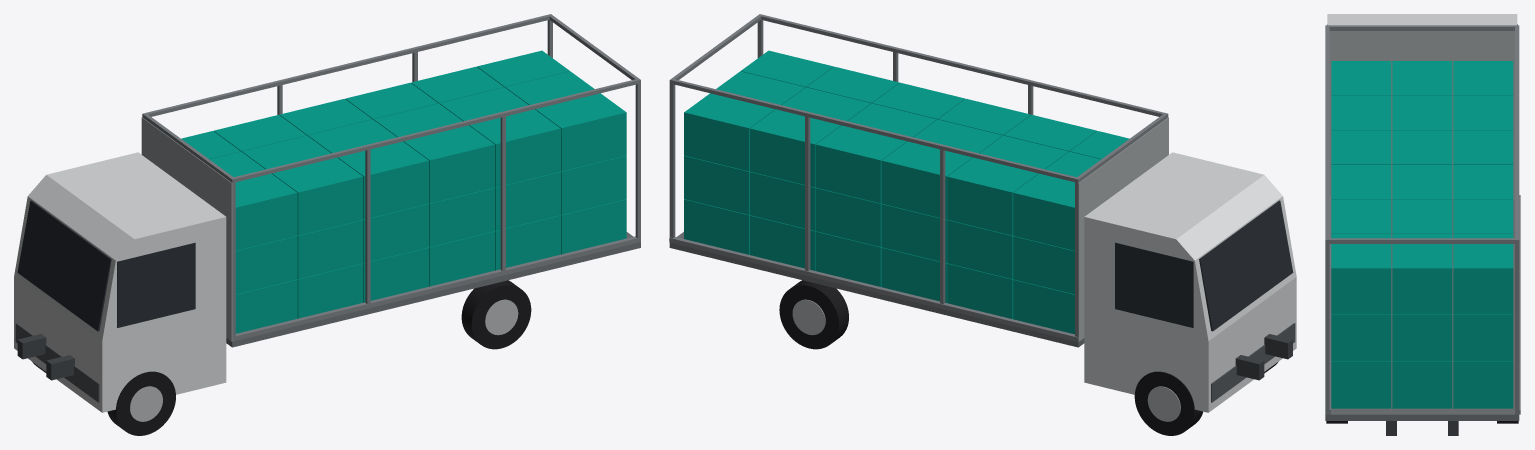
Rendered from caminhao-PN11.glb.
The picture shows the model from 3 angles, left to right: view 1: azimuth 30°, elevation 25°; view 2: azimuth 150°, elevation 25°; view 3: azimuth 270°, elevation 25°; orthographic projection. The views are drawn at different scales.
Visible parts, largest first — view 1: cabine, part21, janela, part46, part64, part82, frente, part55, part73, part37, part13, part43 (+38 smaller); view 2: cabine, part21, janela, part48, part66, part84, frente, part57, part75, part39, part15, part45 (+38 smaller); view 3: frente, part82, part83, part84, piso, part76, part77, part78, part79, part80, part81, cabine (+23 smaller).
Boxes of the visible parts, x1,y1,x2,y2 form: cabine: [14, 152, 226, 412]; part21: [17, 200, 111, 331]; janela: [117, 242, 195, 327]; part46: [272, 157, 363, 235]; part64: [403, 125, 494, 203]; part82: [535, 93, 626, 171]; frente: [141, 117, 232, 341]; part55: [337, 141, 429, 219]; part73: [469, 109, 560, 187]; part37: [235, 173, 297, 250]; part13: [233, 236, 640, 340]; part43: [297, 220, 363, 279]; cabine: [1084, 152, 1296, 412]; part21: [1199, 200, 1293, 331]; janela: [1115, 242, 1193, 327]; part48: [947, 157, 1038, 235]; part66: [815, 125, 907, 203]; part84: [684, 93, 775, 171]; frente: [1078, 117, 1168, 341]; part57: [881, 141, 972, 219]; part75: [750, 109, 841, 187]; part39: [1013, 173, 1074, 250]; part15: [669, 237, 1078, 341]; part45: [947, 220, 1013, 279]; frente: [1329, 31, 1514, 199]; part82: [1331, 234, 1391, 314]; part83: [1392, 234, 1452, 314]; part84: [1453, 234, 1513, 314]; piso: [1325, 200, 1519, 420]; part76: [1331, 361, 1391, 408]; part77: [1392, 361, 1452, 408]; part78: [1453, 361, 1513, 408]; part79: [1331, 314, 1391, 361]; part80: [1392, 314, 1452, 361]; part81: [1453, 314, 1513, 361]; cabine: [1327, 14, 1517, 25].
Size of the model in its own units: 9.04 by 3.61 by 2.53.
